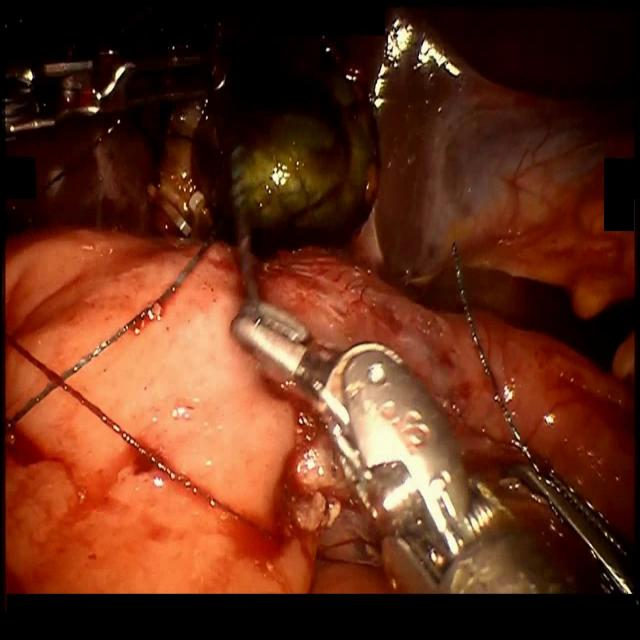surgical-area: (0, 0, 640, 597)
surgical-tool: (232, 294, 640, 603)
